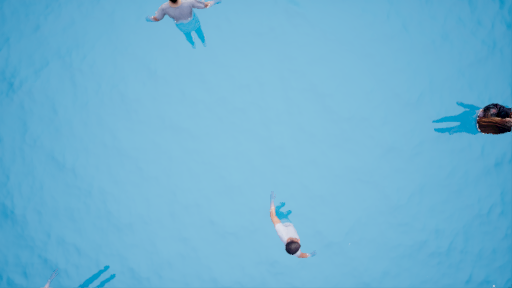person: (139, 1, 232, 56), (258, 191, 317, 266), (430, 97, 512, 141)
